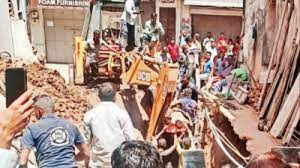arm: (0, 93, 38, 147), (115, 107, 143, 142), (71, 117, 90, 164)
human: (1, 90, 81, 166), (80, 78, 133, 166)
noglove: (0, 94, 36, 140)
nohelmet: (93, 80, 117, 100)
novest: (85, 103, 126, 155), (112, 139, 161, 167)
vest: (30, 117, 79, 165)
